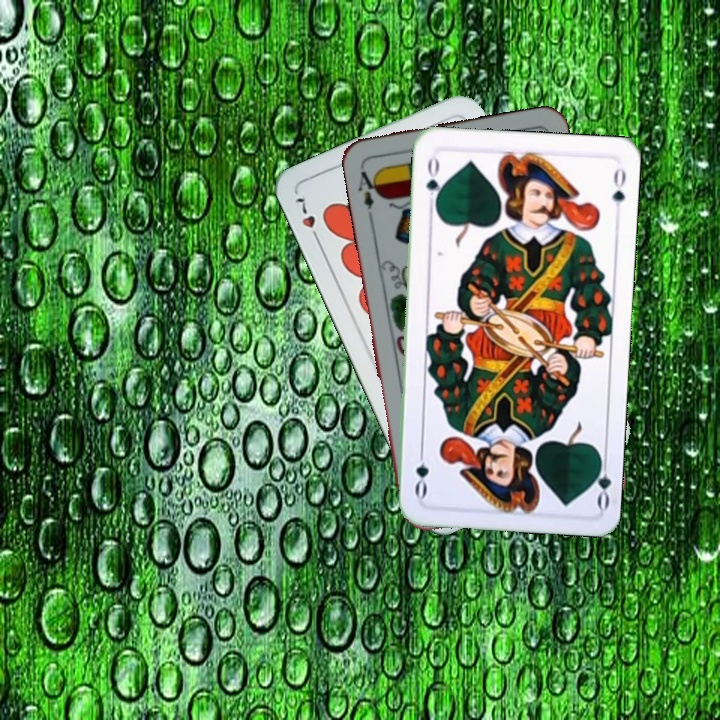EA: (354, 167, 383, 220)
GO: (586, 451, 614, 511), (421, 153, 445, 210)
H7: (290, 193, 324, 247)
